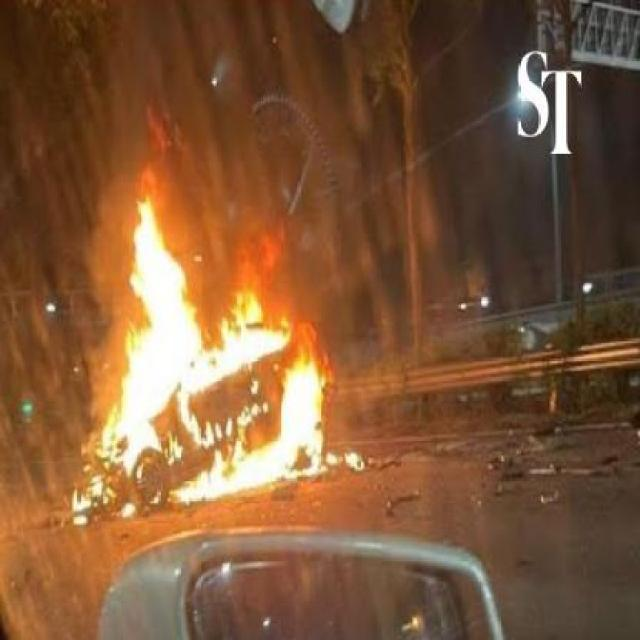Fire: (84, 182, 366, 520)
Smoke: (42, 0, 480, 368)
